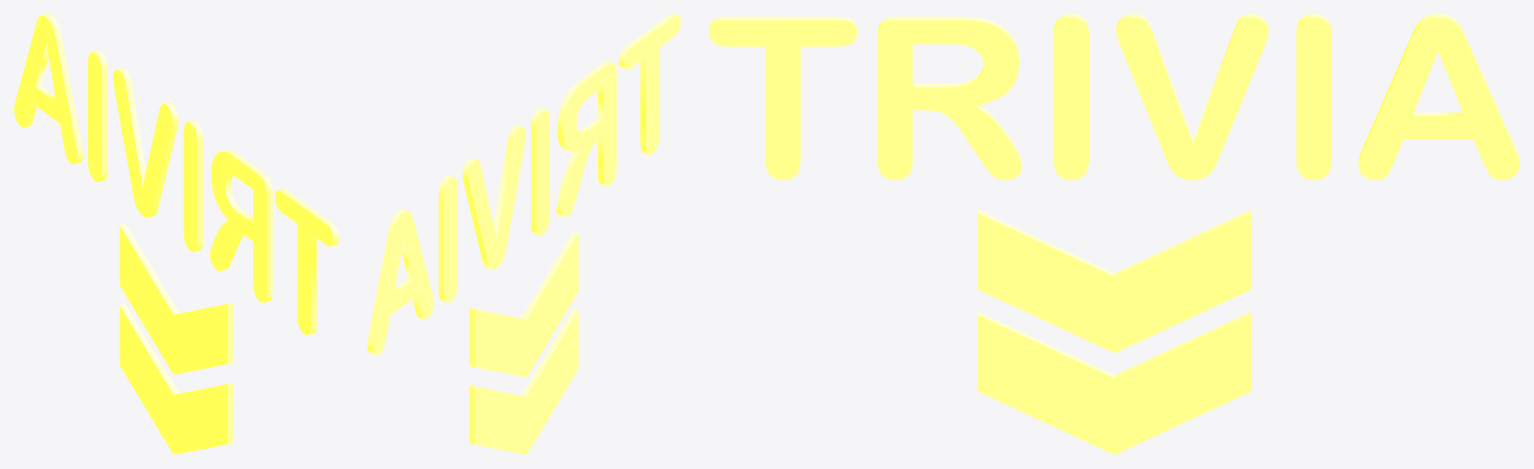
Rendered from Trivia_Pointer_UI.glb.
3 renders of one model, left to right at view 1: azimuth 30°, elevation 25°; view 2: azimuth 150°, elevation 25°; view 3: azimuth 270°, elevation 25°, orthographic. The views are drawn at different scales.
Visible parts, largest first — view 1: Cube.063; view 2: Cube.063; view 3: Cube.063.
Part boxes in pixels (<box>): Cube.063: <box>14,14,338,454</box>; Cube.063: <box>367,14,680,454</box>; Cube.063: <box>709,14,1519,454</box>.
Size of the model in its own units: 0.006 by 0.344 by 0.5773.
